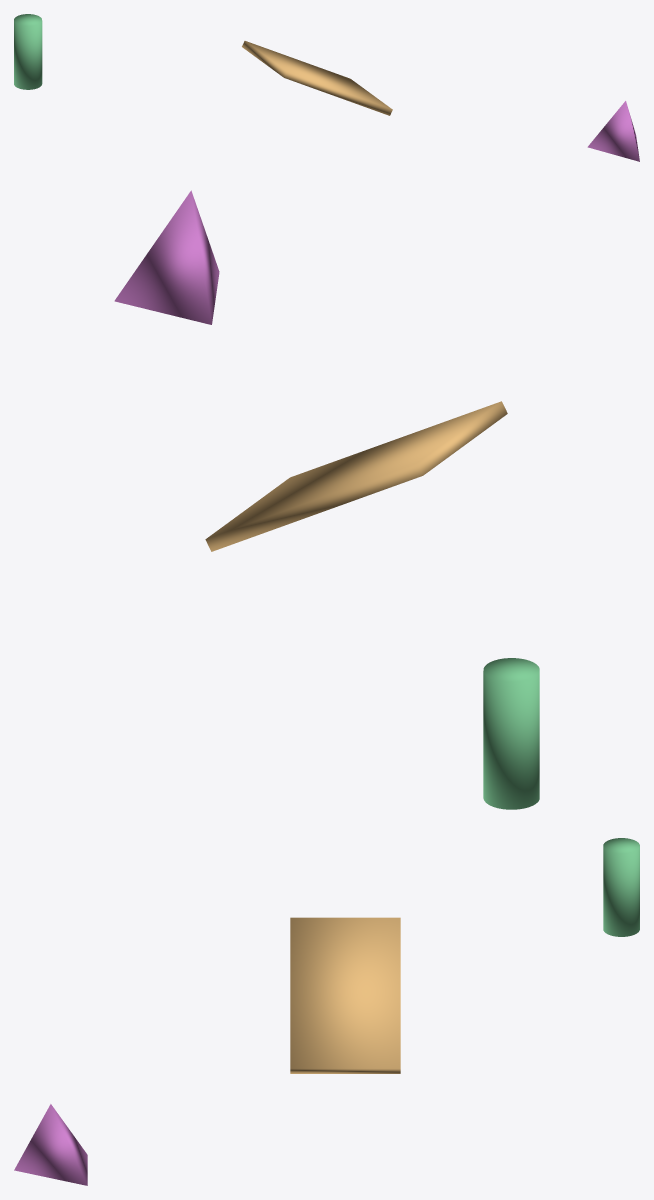
File: static.glb
3 renders of one model, top to bottom at view 1: azimuth 30°, elevation 25°; view 2: azimuth 150°, elevation 25°; view 3: azimuth 270°, elevation 25°, orthographic. The views are drawn at different scales.
Visible parts, largest first — view 1: ramp, post, tetra; view 2: ramp, post, tetra; view 3: ramp, post, tetra.
Part boxes in pixels (<box>): ramp: <box>242,41,392,115</box>; post: <box>14,14,42,89</box>; tetra: <box>587,101,639,161</box>; ramp: <box>205,401,507,551</box>; post: <box>483,658,539,809</box>; tetra: <box>114,190,219,324</box>; ramp: <box>290,917,400,1073</box>; post: <box>603,838,639,936</box>; tetra: <box>14,1104,87,1185</box>.
Size of what is drawn, in the model's own units: 3.4 by 0.5717 by 3.4.
